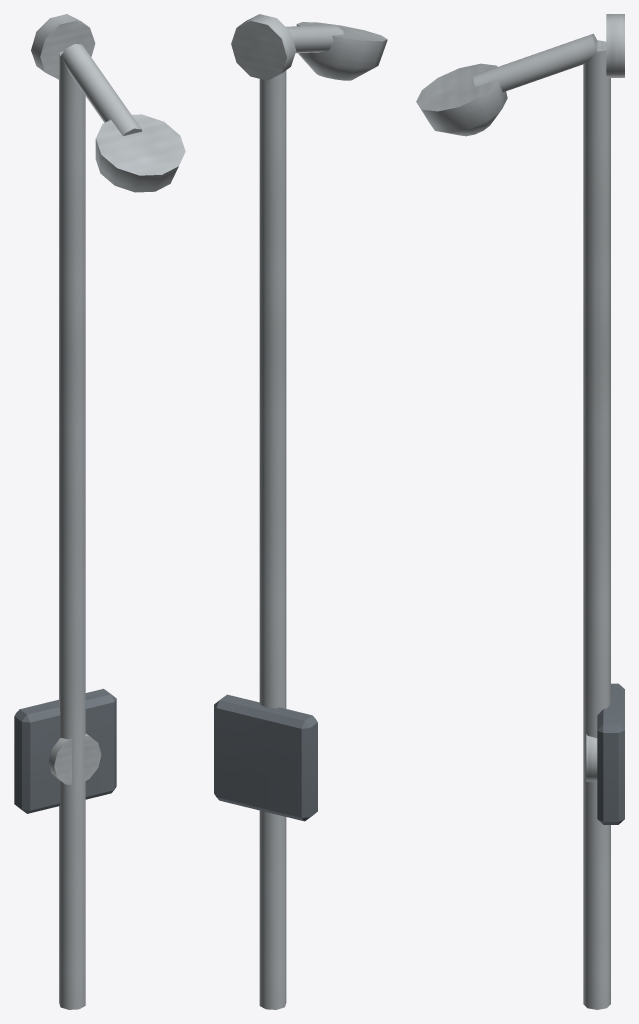
File: shower_head.fbx
The picture shows the model from 3 angles, left to right: view 1: azimuth 30°, elevation 25°; view 2: azimuth 150°, elevation 25°; view 3: azimuth 270°, elevation 25°; orthographic projection.
Visible parts, largest first — view 1: shower_head; view 2: shower_head; view 3: shower_head.
Boxes of the visible parts, x1,y1,x2,y2 form: shower_head: (14,14,185,1009); shower_head: (214,14,387,1009); shower_head: (416,14,624,1009).
Size of the model in its own units: 0.12 by 1.18 by 0.227.
1 material, 1 textured.
